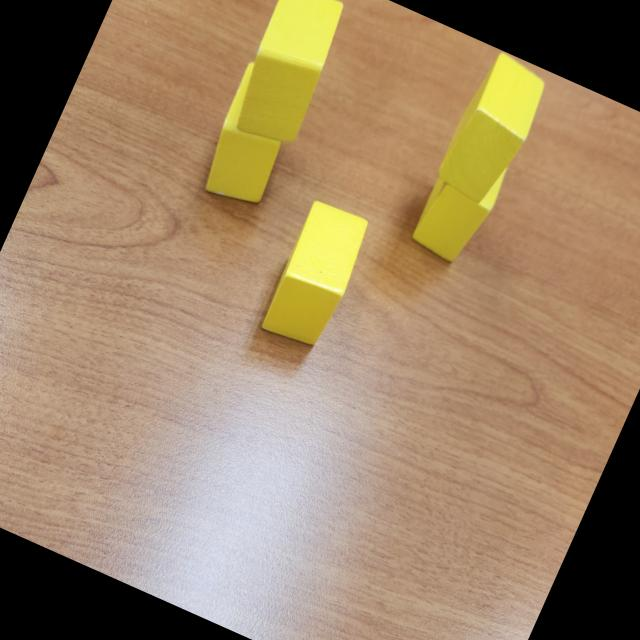yellow: (220, 0, 356, 154), (430, 48, 554, 212), (194, 58, 314, 214), (258, 196, 376, 354), (407, 137, 513, 271)
